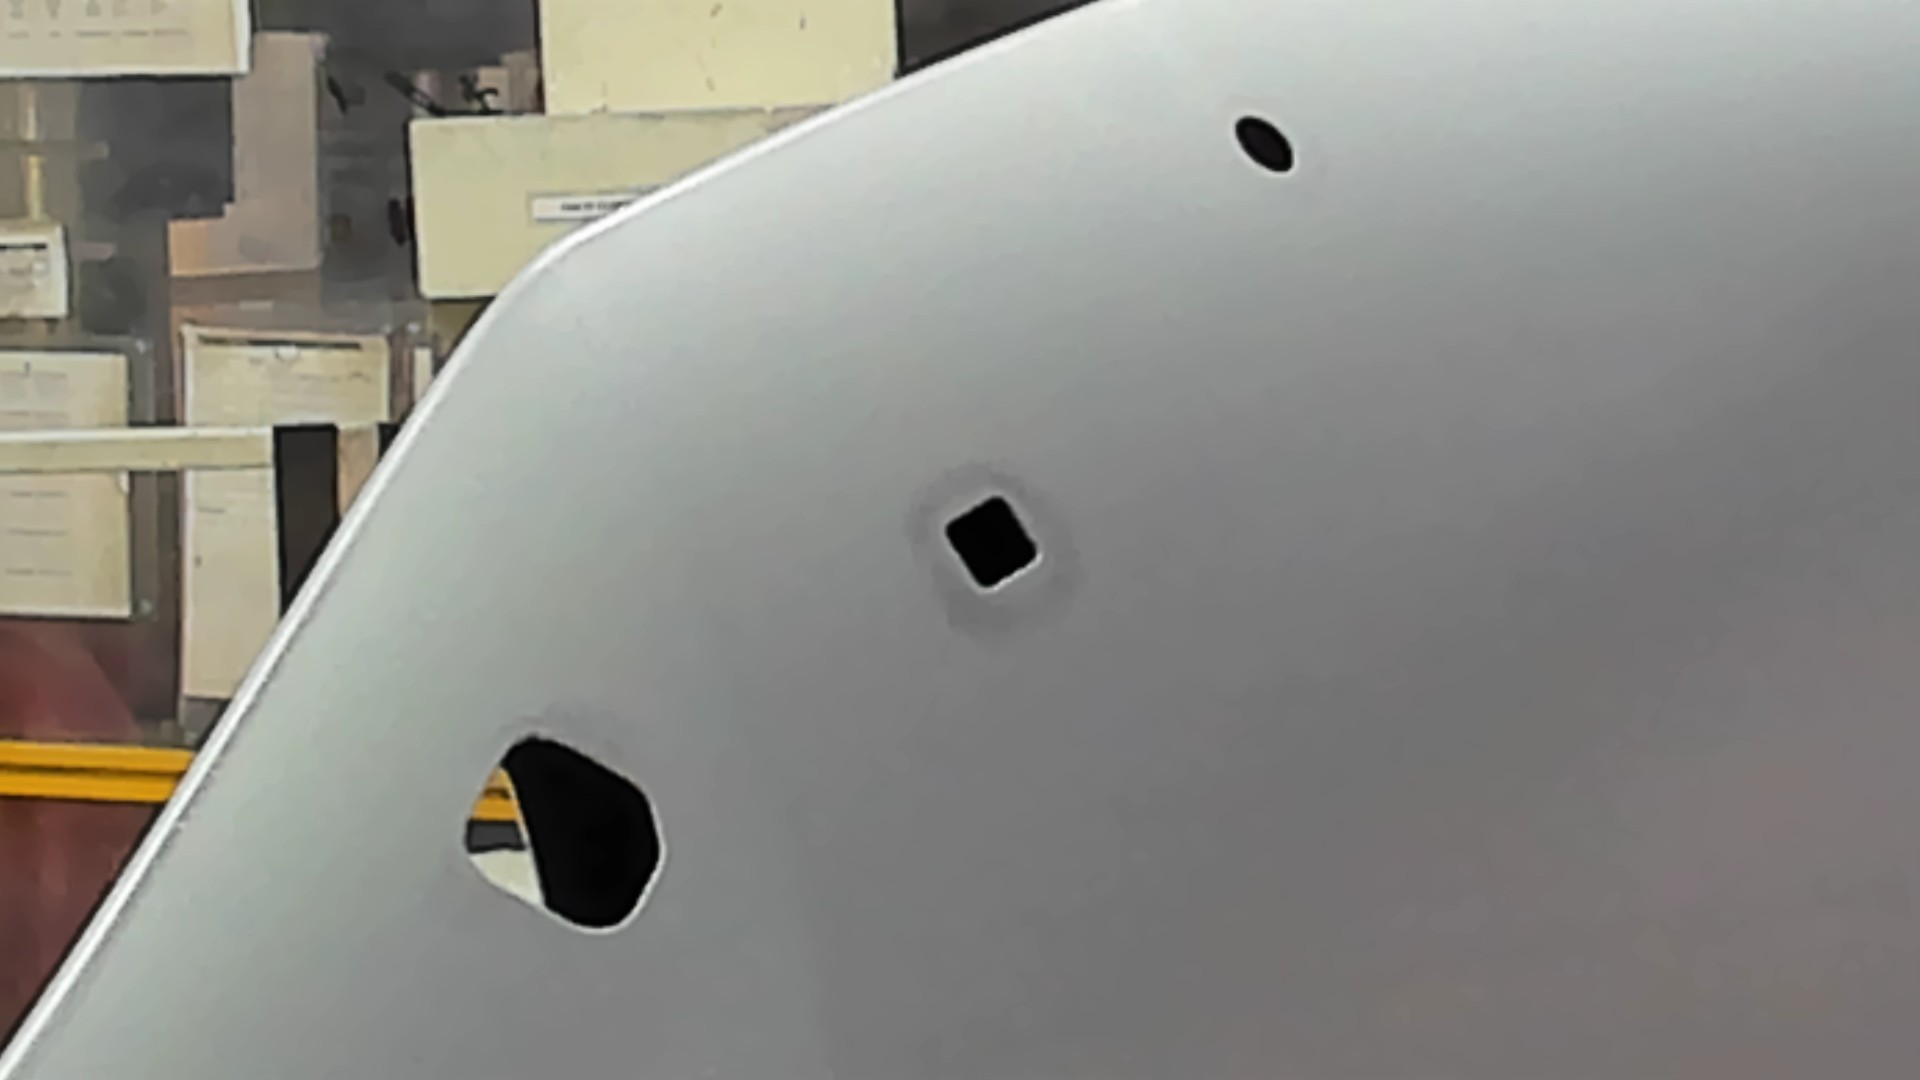chico: (1230, 109, 1302, 181)
grande: (456, 728, 671, 944)
mediano: (938, 488, 1048, 597)
